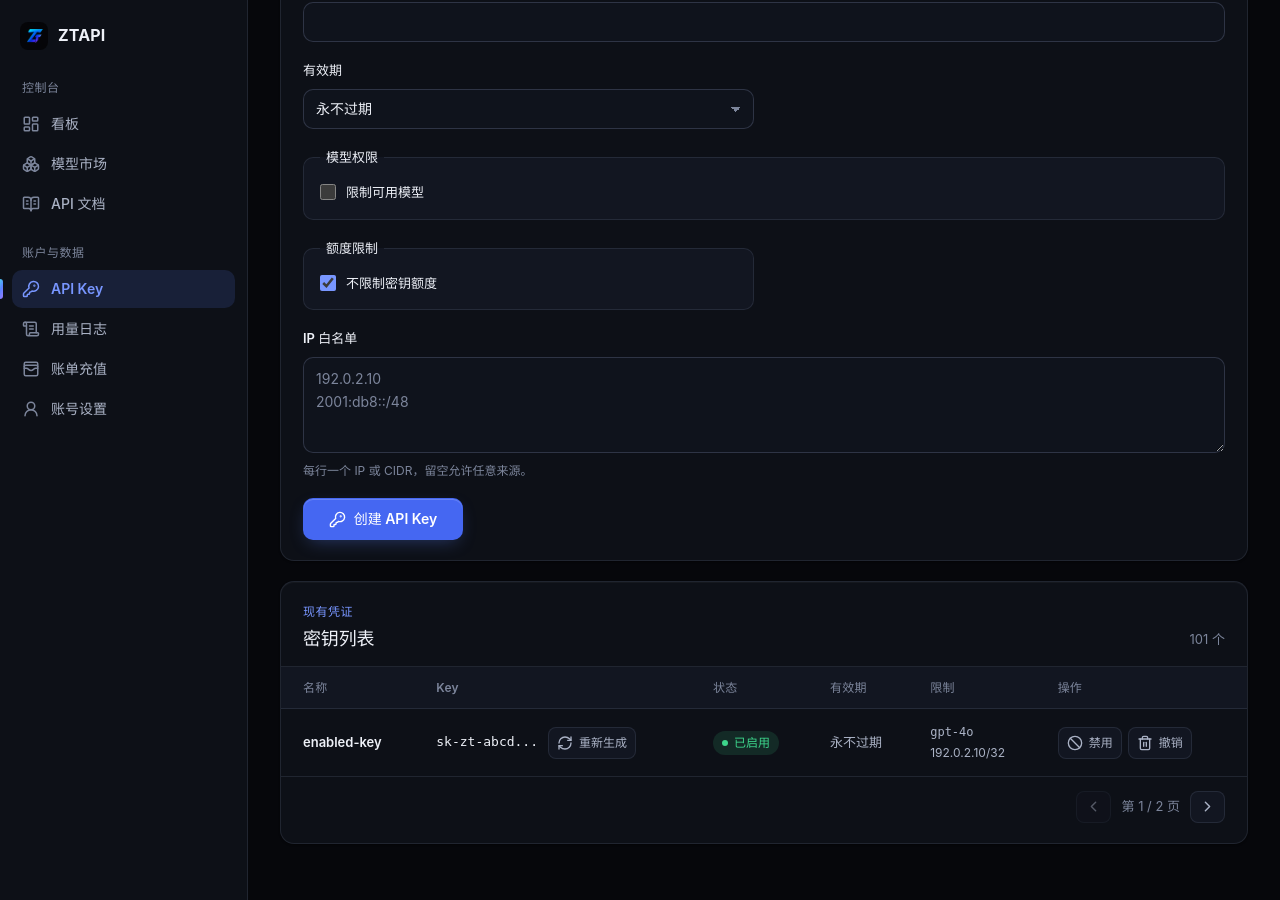
it: ZTAPI one-time API keys › navigates key pages and can revoke a key beyond the first page
(page scrolled)
Check: the text "enabled-key" is shown, box top-left (303, 734), bottom-right (382, 750)
Check: the button named "上一页" is disabled, box top-left (1076, 791), bottom-right (1112, 823)
What coordinates should you click on to do the following:
click the button named "下一页"
I would click on:
 (1208, 807)
Its box is top-left (1190, 791), bottom-right (1225, 823).
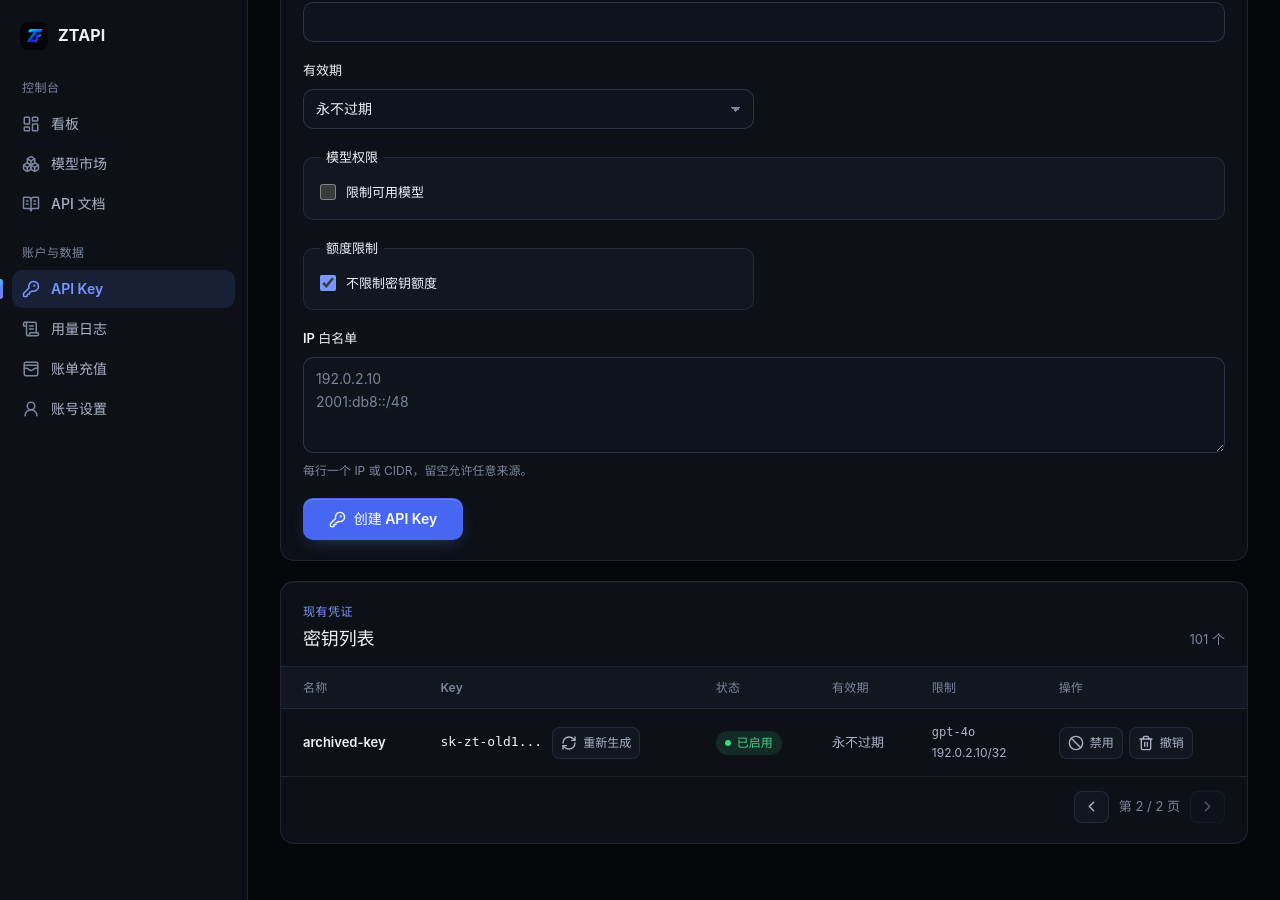
Check: the text "archived-key" is shown, box top-left (303, 734), bottom-right (386, 750)
Check: the text "第 2 / 2 页" is shown, box top-left (1119, 796), bottom-right (1180, 817)
Check: the button named "上一页" is enabled, box top-left (1074, 791), bottom-right (1109, 823)
What coordinates should you click on to do the following:
click the button "撤销"
I would click on:
 (1161, 742)
Its box is top-left (1129, 726), bottom-right (1193, 758).
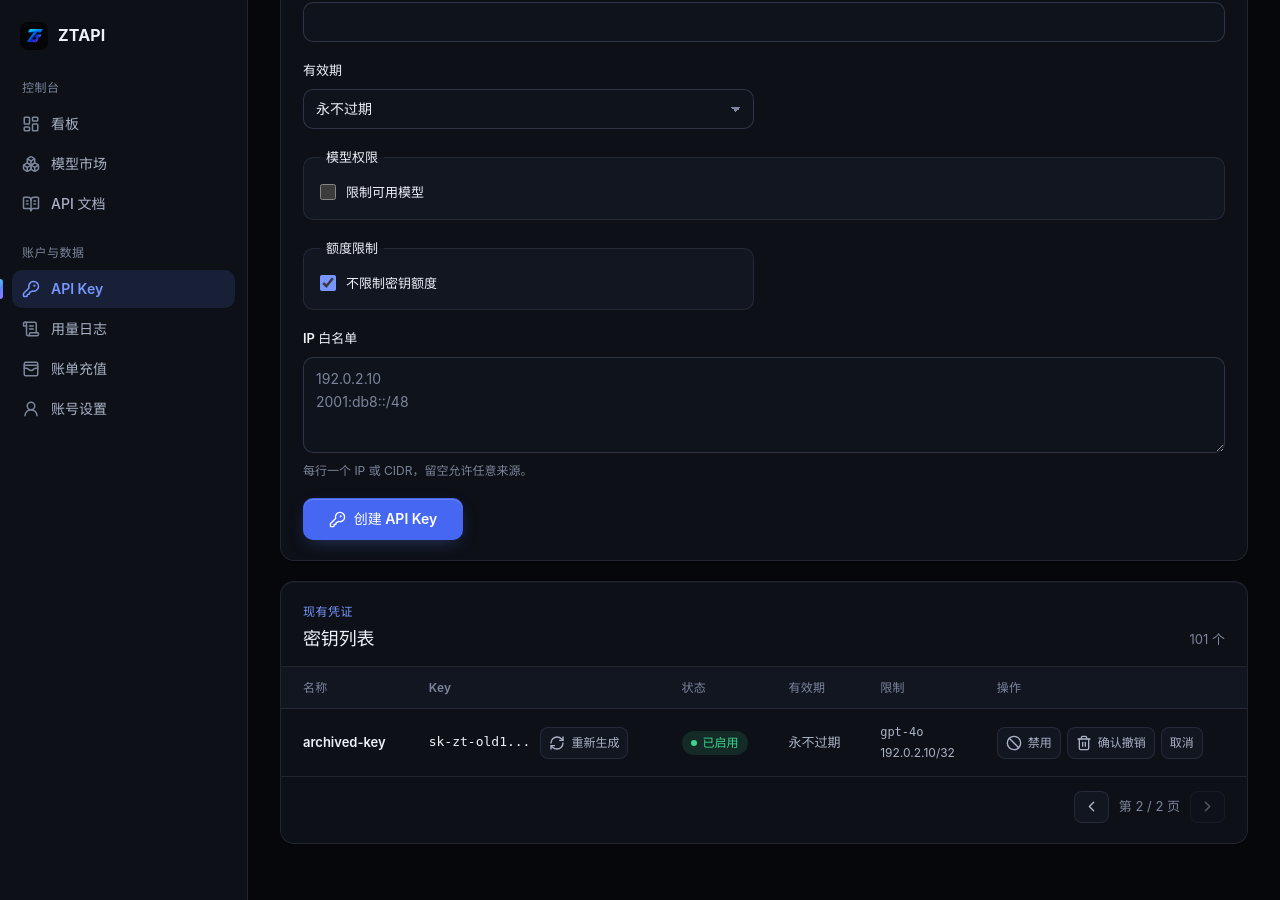
What coordinates should you click on to do the following:
click the button "确认撤销"
I would click on:
 (1111, 742)
Its box is top-left (1067, 726), bottom-right (1155, 758).
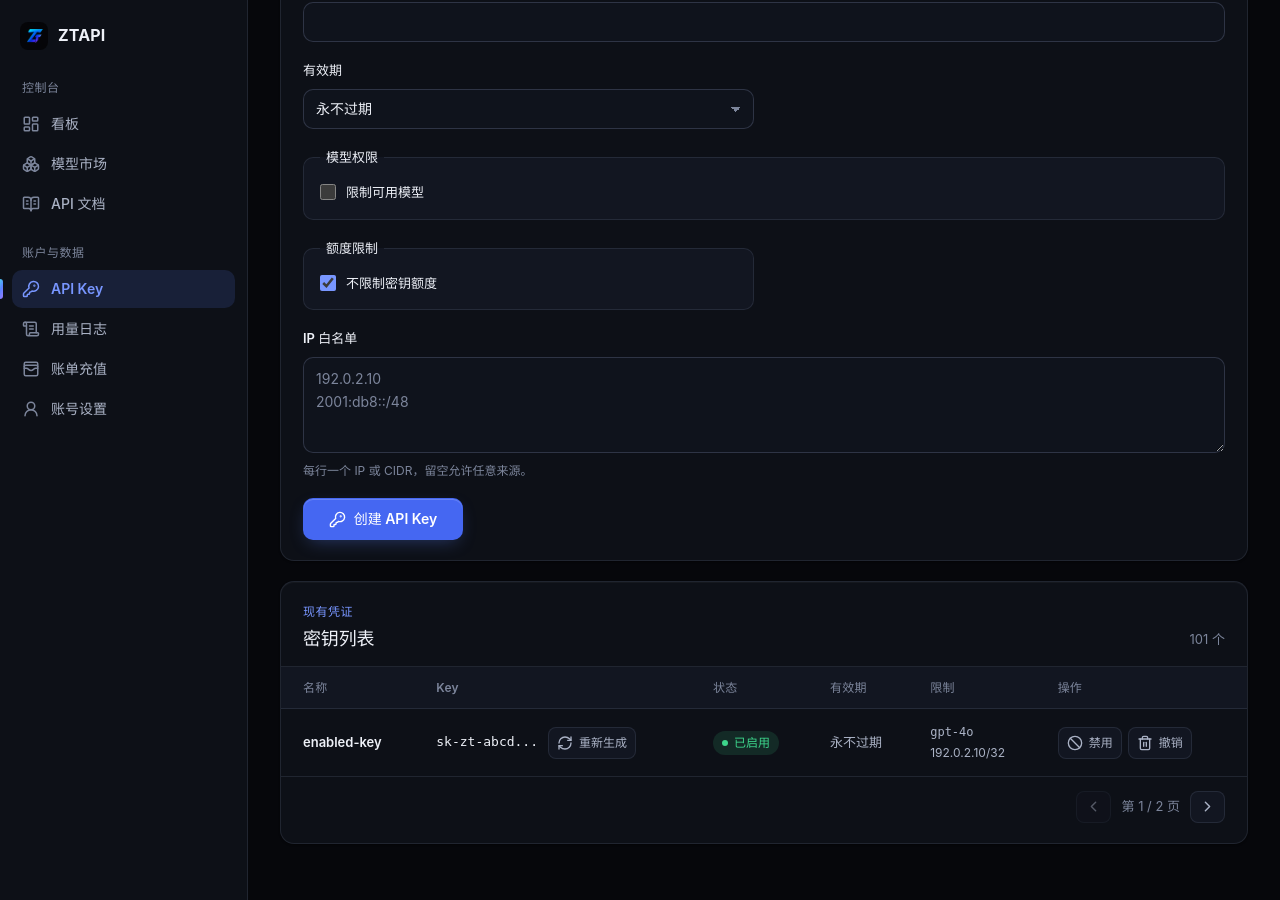
Check: the text "archived-key" is gone
